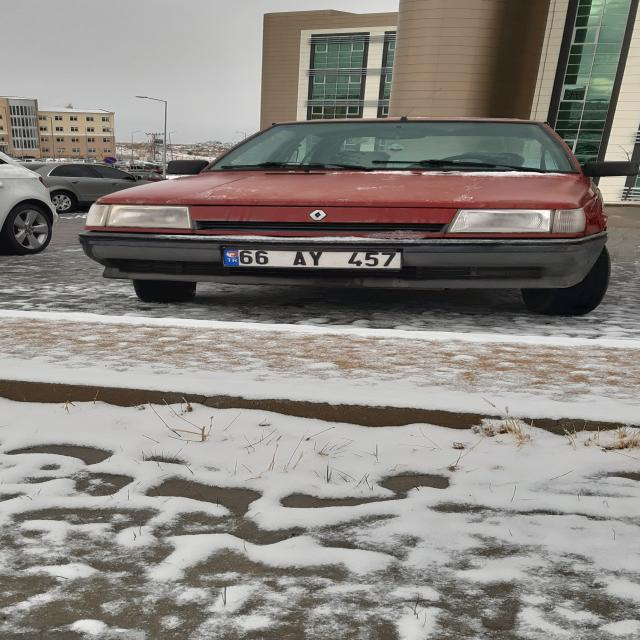plate: (222, 248, 402, 268)
